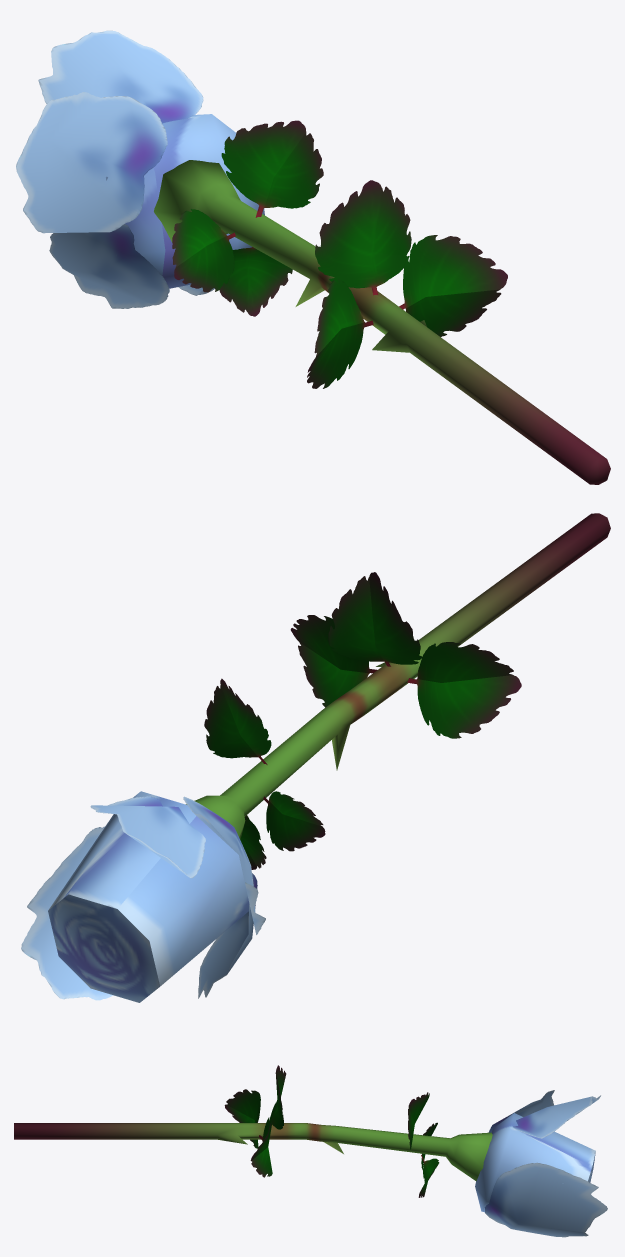
The model's file is SM_Rose_PastellBlue_Closed.fbx.
3 views of the same model, one above another, from view 1: azimuth 30°, elevation 25°; view 2: azimuth 150°, elevation 25°; view 3: azimuth 270°, elevation 25° (orthographic). The views are drawn at different scales.
Parts seen in each view (by area): view 1: Rose_PastellBlue_Closed; view 2: Rose_PastellBlue_Closed; view 3: Rose_PastellBlue_Closed.
Boxes of the visible parts, box(x1,y1,x2,y2) form: Rose_PastellBlue_Closed: box(16, 30, 610, 484); Rose_PastellBlue_Closed: box(21, 513, 610, 1002); Rose_PastellBlue_Closed: box(14, 1065, 607, 1237).
Size of the model in its own units: 35.12 by 42.85 by 129.
